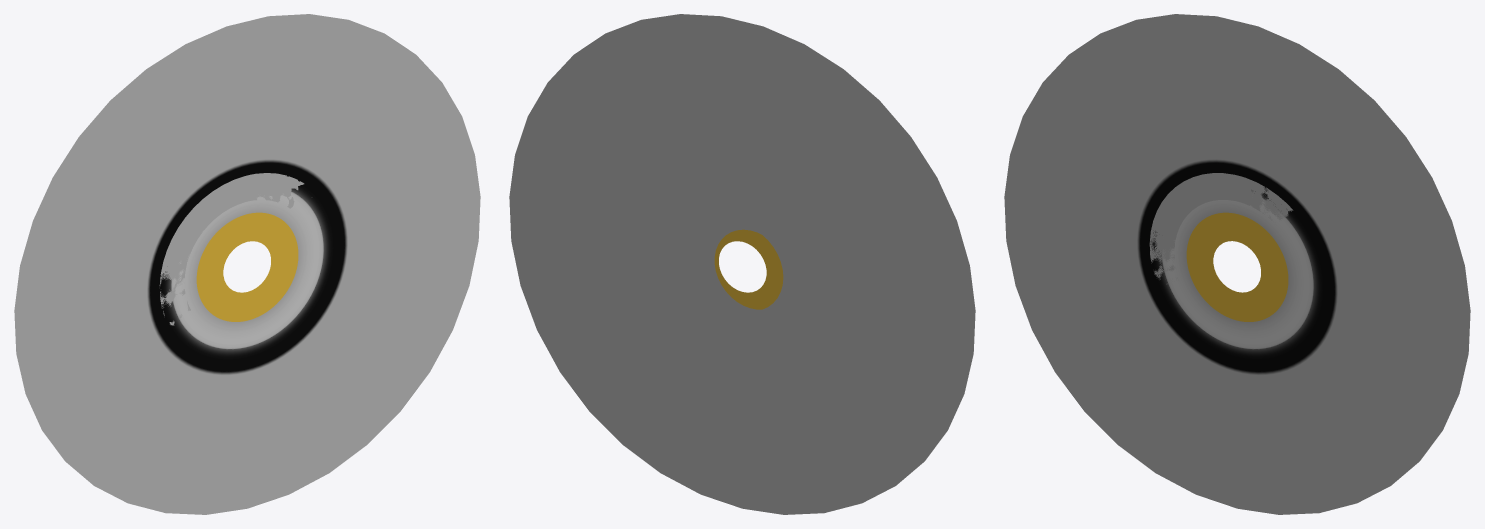
The model's file is pref_BattleSkillCommonSkillBtn1.fbx.
3 views of the same model, side by side, from view 1: azimuth 30°, elevation 25°; view 2: azimuth 150°, elevation 25°; view 3: azimuth 330°, elevation 25° (orthographic).
Visible parts, largest first — view 1: flare, ring1, ring2, CountdownTrans; view 2: flare, ring4 (×2), line, ring2; view 3: flare, ring1, ring2, CountdownTrans.
Boxes of the visible parts, <box> form: flare: <box>14,14,480,514</box>; ring1: <box>147,159,347,375</box>; ring2: <box>196,212,298,321</box>; CountdownTrans: <box>159,173,304,325</box>; flare: <box>509,14,975,514</box>; ring4 (×2): <box>659,170,844,369</box>; line: <box>645,162,840,372</box>; ring2: <box>714,229,783,309</box>; flare: <box>1004,14,1470,514</box>; ring1: <box>1137,159,1337,375</box>; ring2: <box>1186,212,1288,321</box>; CountdownTrans: <box>1149,173,1293,284</box>.
Size of the model in its own units: 329 by 329 by 0.01.
6 materials, 1 textured.
